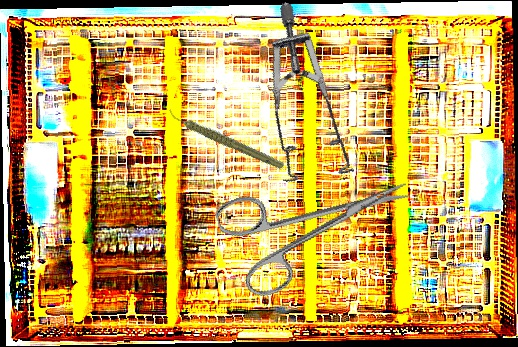Handpiece: (166, 87, 287, 191)
Iris Scissors: (212, 144, 426, 304)
Speculum: (221, 1, 403, 204)
